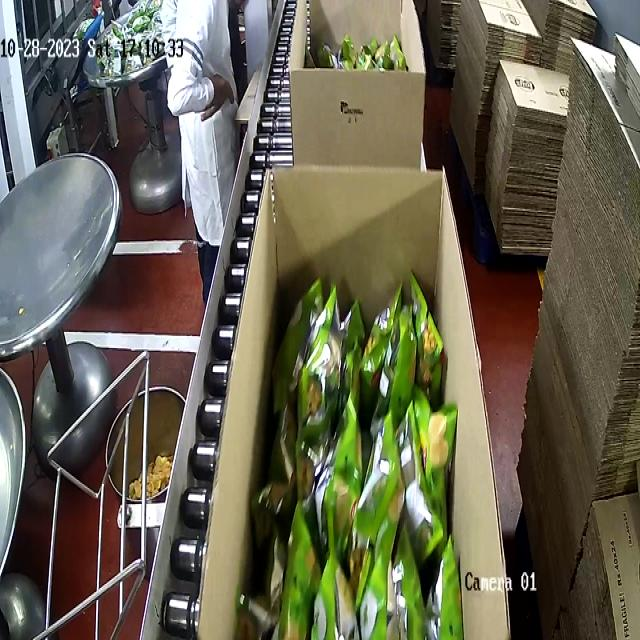YOGURT_HERB: (240, 267, 463, 637)
